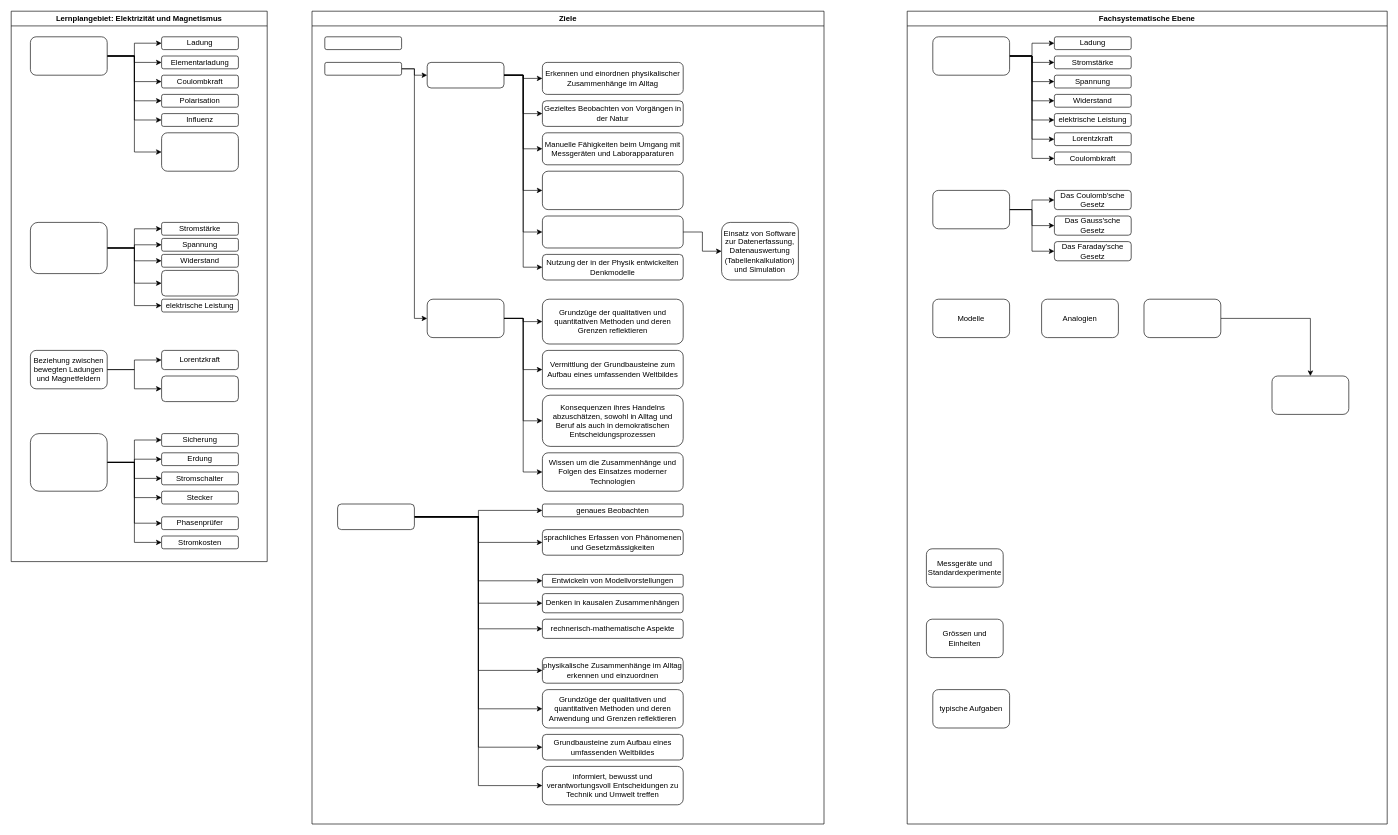
This 1398x835 diagram has some shape labels left out. Here are the shapes that lost their labels. From the top down, the box of each, then its label:
(30, 36, 107, 75): Elektrostatische sowie ferromagnetische Phänomene kennen
(324, 36, 402, 50): Richtziele
(932, 36, 1010, 75): Grundbegriffe und Zusammenhänge
(324, 62, 402, 75): Überfachliche Ziele
(427, 62, 504, 88): Methoden- und Medienkompetenzen
(161, 132, 238, 171): Eigenschaften ferromagnetischer Stoffe
(542, 171, 683, 210): Beobachtungssituationen planen, durchführen und die gewonnen Daten auszuwerten
(932, 190, 1010, 229): Gesetze
(30, 222, 107, 274): Einfache Gleichstromkreise zeichnen, aufbauen, ausmessen und berechnen können
(542, 215, 683, 248): Nutzung entsprechender Software und des Internets als Informationsquelle
(161, 270, 238, 296): Messungen am Stromkreis
(427, 299, 504, 338): Bildung für eine nachhaltige Entwicklung
(1143, 299, 1221, 338): Stromkreis
(161, 375, 238, 402): Anwendungen der Lorentzkraft
(30, 433, 107, 491): Über grundlegende Kenntnisse im Umgang mit der Elektrizität im Alltag verfügen
(337, 503, 414, 530): Allgemeine Bildungsziele
